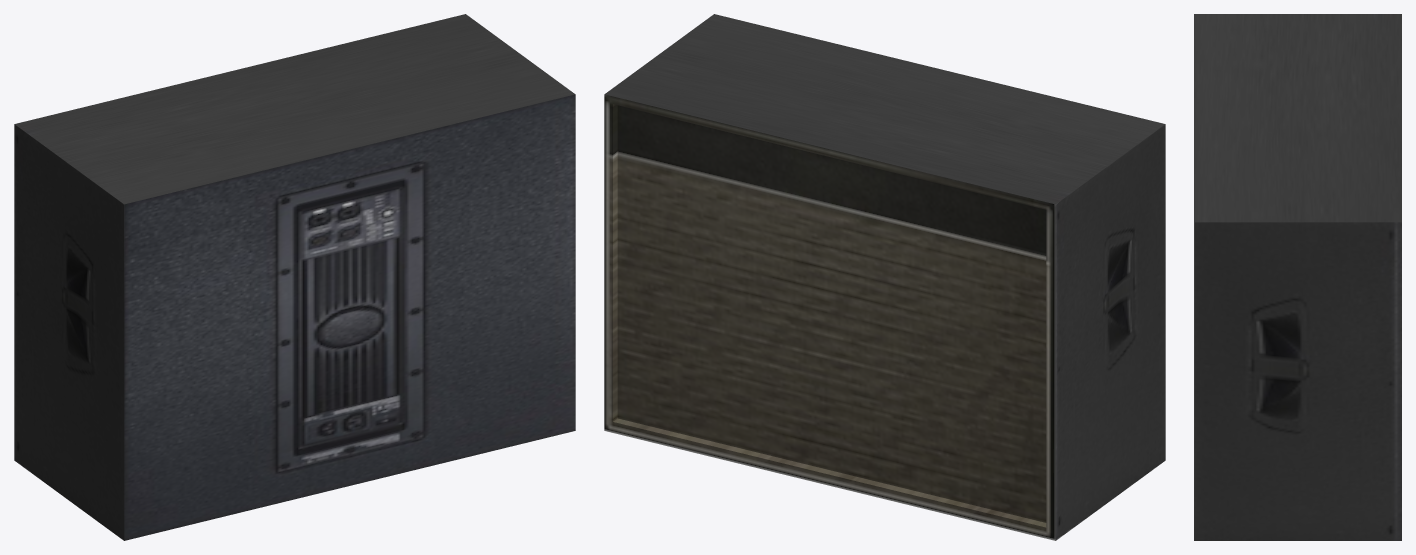
Rendered from ARC0810076.fbx.
3 renders of one model, left to right at view 1: azimuth 30°, elevation 25°; view 2: azimuth 150°, elevation 25°; view 3: azimuth 270°, elevation 25°, orthographic. The views are drawn at different scales.
Parts seen in each view (by area): view 1: smARC0810076; view 2: smARC0810076; view 3: smARC0810076.
Part boxes in pixels (box(x1,y1,x2,y2)): smARC0810076: box(14, 14, 575, 540); smARC0810076: box(604, 14, 1165, 540); smARC0810076: box(1194, 14, 1401, 540).
Size of the model in its own units: 75.81 by 54.01 by 31.94.
1 material, 1 textured.
